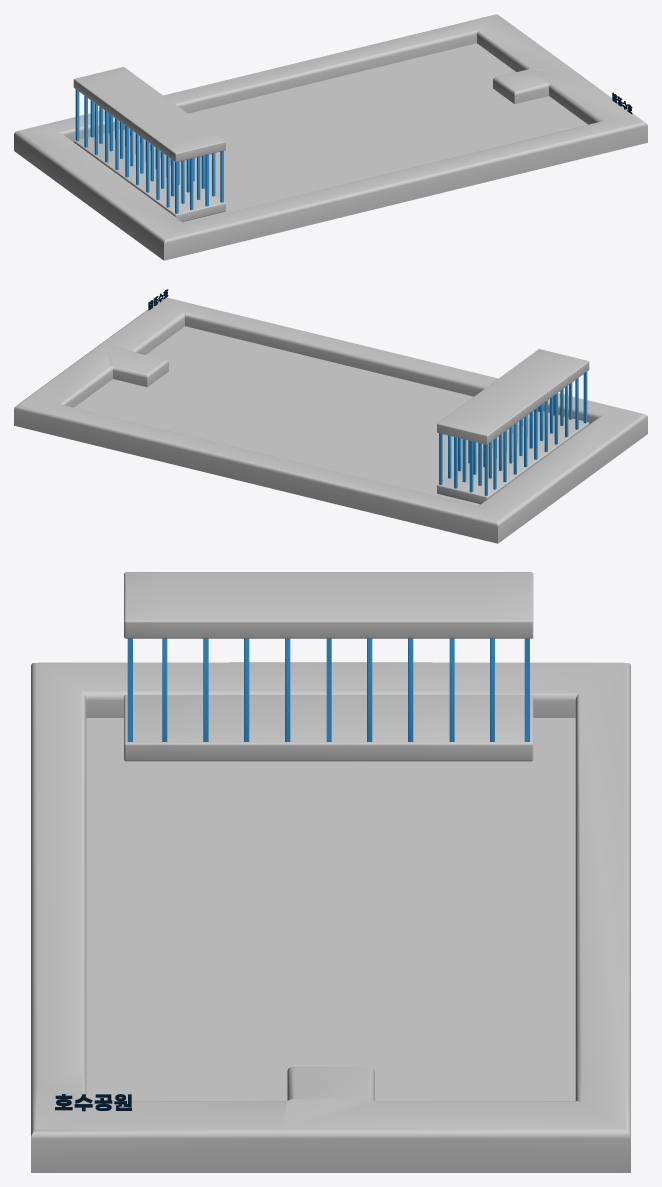
The model's file is 호수공원.fbx.
3 views of the same model, one above another, from view 1: azimuth 30°, elevation 25°; view 2: azimuth 150°, elevation 25°; view 3: azimuth 270°, elevation 25° (orthographic). The views are drawn at different scales.
Parts seen in each view (by area): view 1: Cube, Cube_5, Cube_1; view 2: Cube, Cube_5, Cube_1; view 3: Cube, Cube_5, Cube_1, Extrude_1.
Part boxes in pixels (x1,y1,x2,y2): Cube: (14,14,647,260); Cube_5: (73,67,225,162); Cube_1: (73,129,225,221); Cube: (14,297,647,543); Cube_5: (437,349,589,444); Cube_1: (437,411,589,504); Cube: (31,662,630,1172); Cube_5: (124,572,533,638); Cube_1: (124,695,533,761); Extrude_1: (55,1094,131,1111).
Bounding box in the file's own units: 1585 × 255 × 851.
